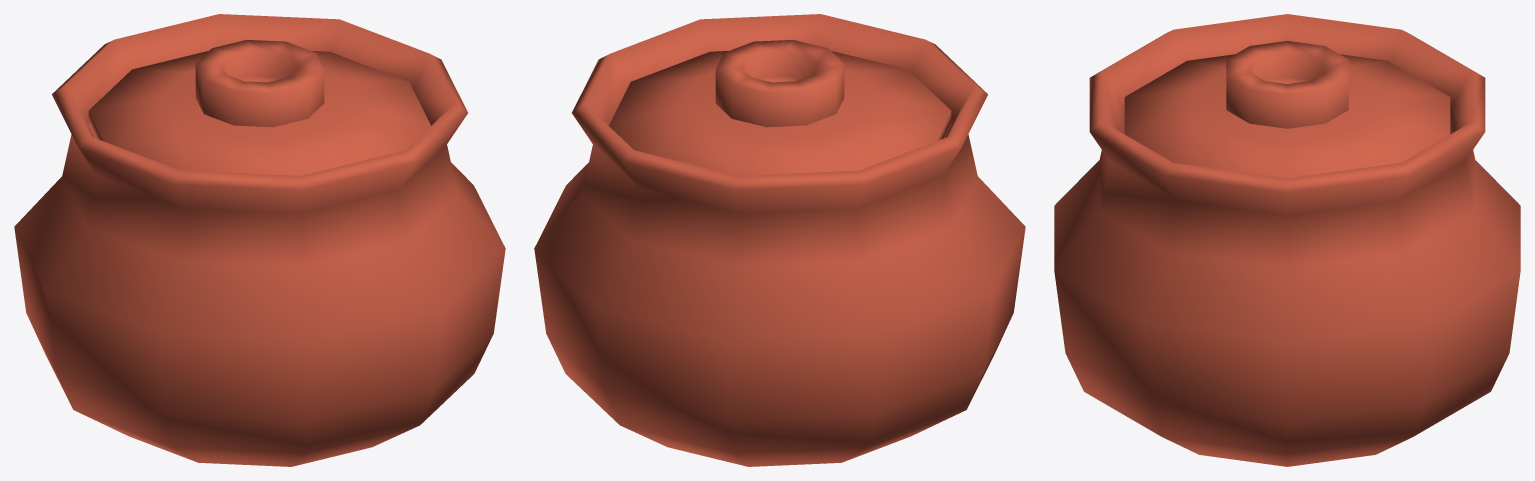
Rendered from pan_ceramic_pot_small.glb.
The picture shows the model from 3 angles, left to right: view 1: azimuth 30°, elevation 25°; view 2: azimuth 150°, elevation 25°; view 3: azimuth 270°, elevation 25°; orthographic projection.
Parts seen in each view (by area): view 1: pan ceramic pot small, pan ceramic pot small lid; view 2: pan ceramic pot small, pan ceramic pot small lid; view 3: pan ceramic pot small, pan ceramic pot small lid.
Part boxes in pixels (x1,y1,x2,y2): pan ceramic pot small: [14, 14, 505, 466]; pan ceramic pot small lid: [88, 39, 430, 175]; pan ceramic pot small: [534, 14, 1025, 466]; pan ceramic pot small lid: [609, 39, 951, 175]; pan ceramic pot small: [1054, 14, 1520, 466]; pan ceramic pot small lid: [1124, 41, 1450, 178].
Bounding box in the file's own units: 3.88 × 2.93 × 3.69.
Materials: 1 (1 with a texture image).
